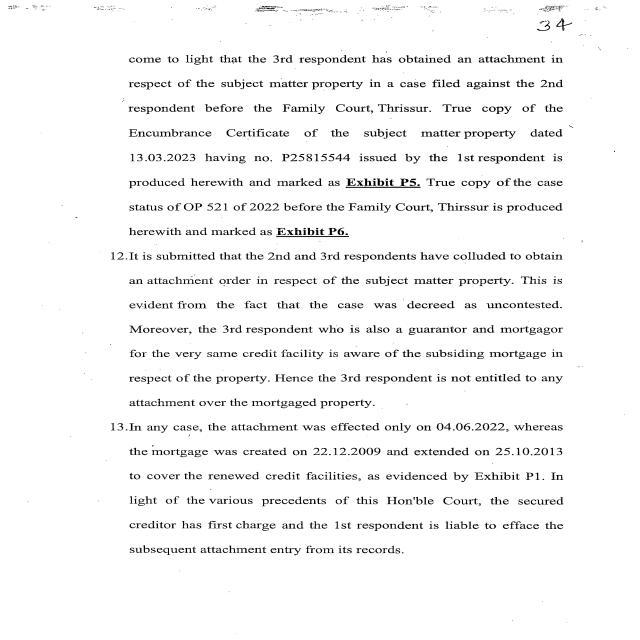page-number: (390, 0, 638, 50)
